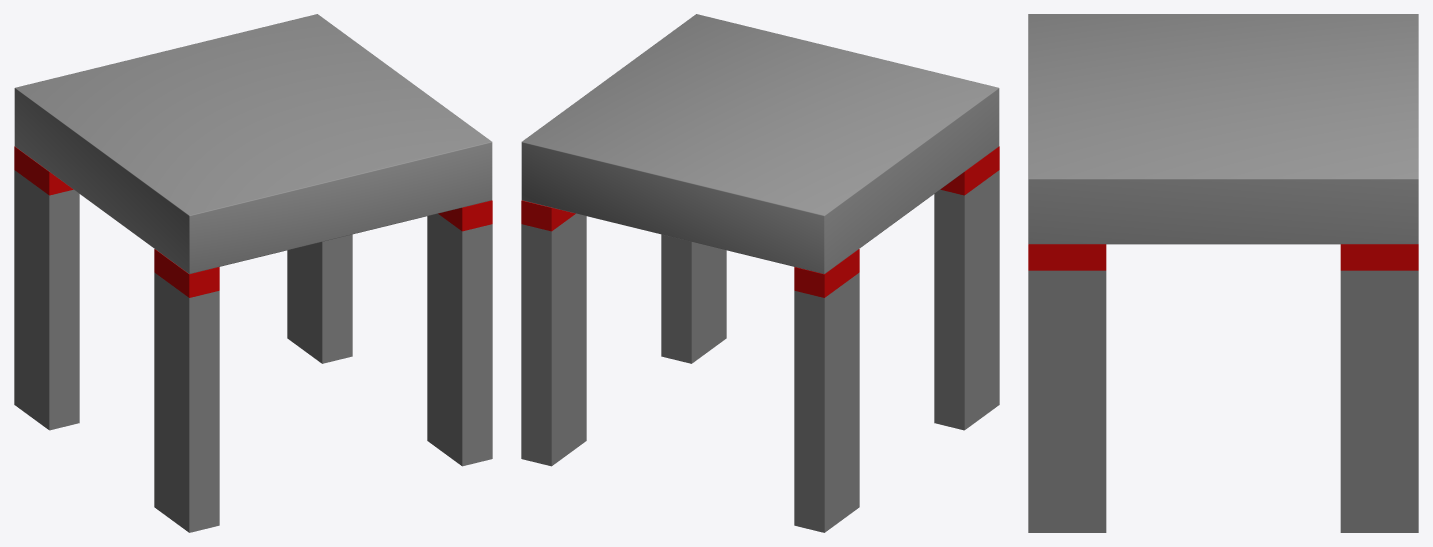
Rendered from sh-lp-tavolino.glb.
The picture shows the model from 3 angles, left to right: view 1: azimuth 30°, elevation 25°; view 2: azimuth 150°, elevation 25°; view 3: azimuth 270°, elevation 25°; orthographic projection. The views are drawn at different scales.
Visible parts, largest first — view 1: ChamferBox06_3, Box42_1, Box43_2; view 2: ChamferBox06_3, Box42_1, Box43_2; view 3: ChamferBox06_3, Box42_1, Box43_2.
Boxes of the visible parts, bbox=[...] form: ChamferBox06_3: bbox=[14, 14, 492, 273]; Box42_1: bbox=[14, 170, 492, 532]; Box43_2: bbox=[14, 146, 492, 297]; ChamferBox06_3: bbox=[521, 14, 999, 273]; Box42_1: bbox=[521, 170, 999, 532]; Box43_2: bbox=[521, 146, 999, 297]; ChamferBox06_3: bbox=[1028, 14, 1418, 244]; Box42_1: bbox=[1028, 270, 1418, 532]; Box43_2: bbox=[1028, 244, 1418, 270].
Size of the model in its own units: 1 by 1 by 1.
